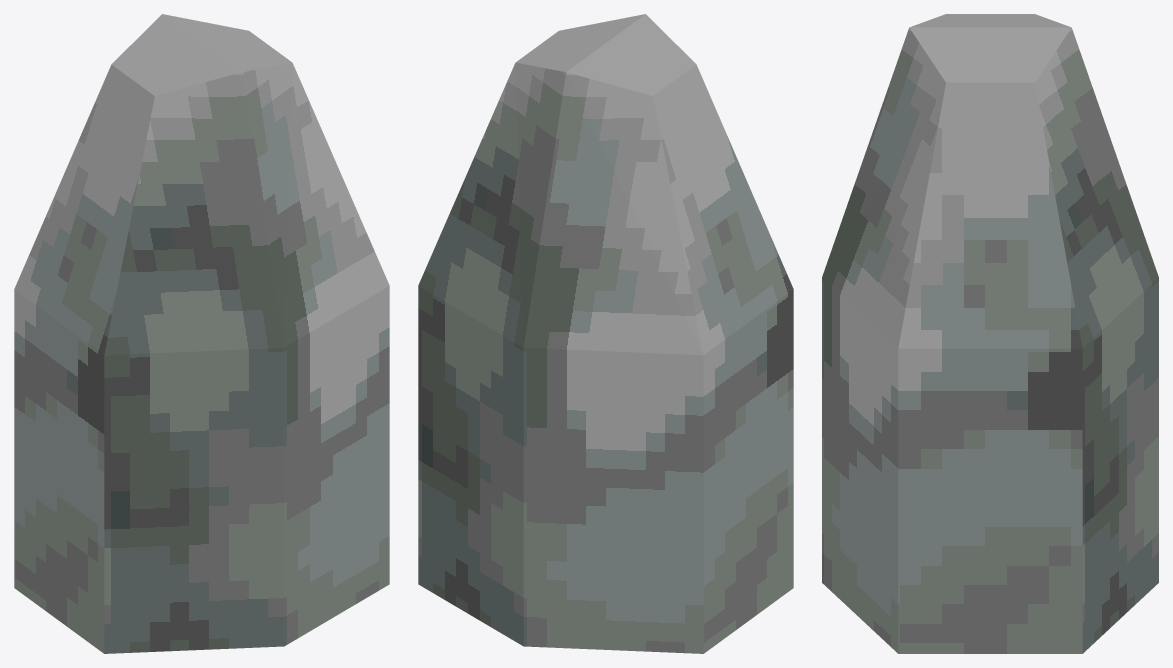
3 views of the same model, side by side, from view 1: azimuth 30°, elevation 25°; view 2: azimuth 150°, elevation 25°; view 3: azimuth 270°, elevation 25° (orthographic). The views are drawn at different scales.
Bounding box in the file's own units: 1 × 1.82 × 1.
1 material, 1 textured.
